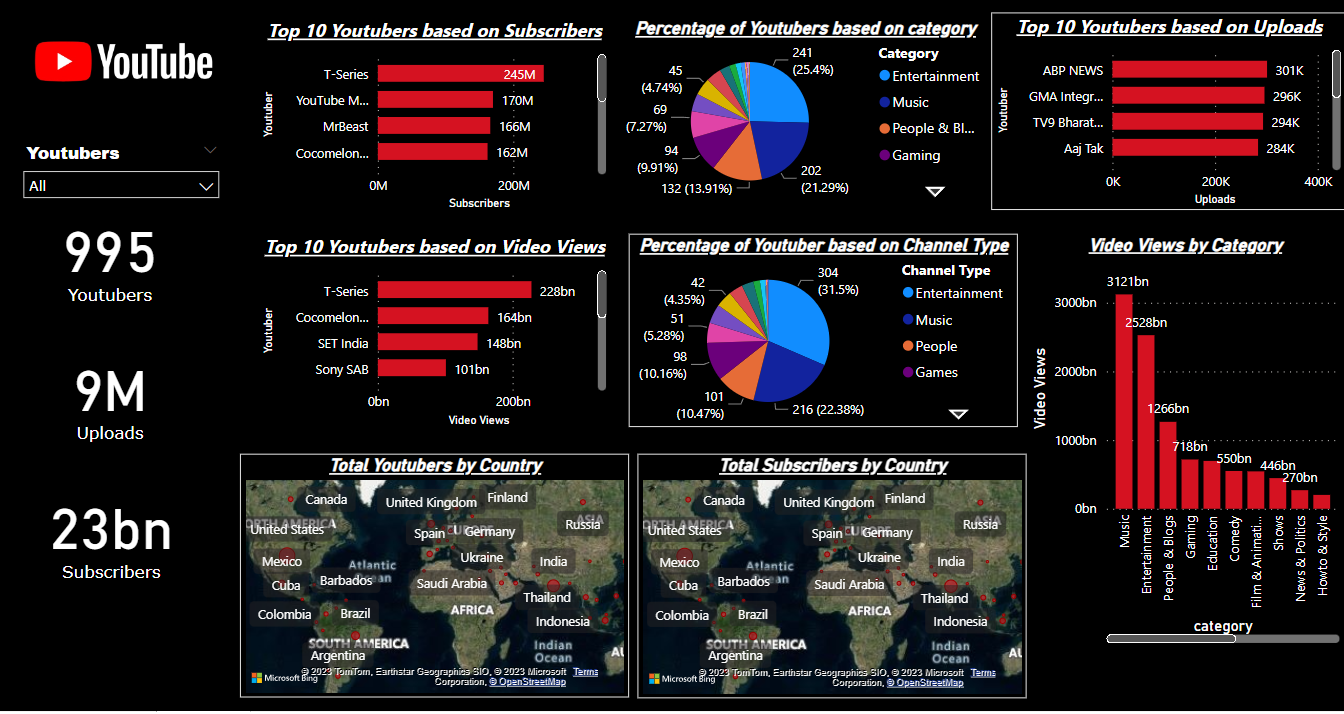

The page's visual inventory and layout, read from the dashboard file:
{"tool":"powerbi","page":{"name":"Page 1","canvas":[1280,720],"ordinal":0},"visuals":[{"type":"image","box":[0,32.9,231.7,138.5],"z":0},{"type":"card","fields":{"Values":["Global YouTube Statistics.Youtuber"]},"box":[1.4,229,207,113.8],"z":1000},{"type":"slicer","fields":{"Values":["Global YouTube Statistics.Youtuber"]},"box":[12.3,171.4,207,75.4],"z":2000},{"type":"card","fields":{"Values":["Global YouTube Statistics.uploads"]},"box":[1.4,360.6,207,113.8],"z":3000},{"type":"barChart","title":"Top 10 Youtubers based on Subscribers","fields":{"Category":["Global YouTube Statistics.Youtuber"],"Y":["Global YouTube Statistics.subscribers"]},"box":[245.4,59,337.3,187.8],"z":4000},{"type":"barChart","title":"Top 10 Youtubers based on Video Views","fields":{"Category":["Global YouTube Statistics.Youtuber"],"Y":["Global YouTube Statistics.video views"]},"box":[245.4,266,337.3,187.8],"z":5000},{"type":"pieChart","title":"Percentage of Youtubers based on category","fields":{"Category":["Global YouTube Statistics.category"],"Y":["Global YouTube Statistics.Youtuber"]},"box":[586.8,59,360.6,178.2],"z":6000},{"type":"pieChart","title":"Percentage of Youtuber based on Channel Type","fields":{"Category":["Global YouTube Statistics.channel_type"],"Y":["Global YouTube Statistics.Youtuber"]},"box":[599.1,266,370.2,183.7],"z":7000},{"type":"map","title":"Total Youtubers by Country","fields":{"Category":["Global YouTube Statistics.Country"],"Size":["Global YouTube Statistics.Youtuber"]},"box":[228.5,474.8,370.1,232.1],"z":8000},{"type":"barChart","title":"Top 10 Youtubers based on Uploads","fields":{"Category":["Global YouTube Statistics.Youtuber"],"Y":["Global YouTube Statistics.uploads"]},"box":[943.3,54.8,337.3,187.8],"z":9000},{"type":"columnChart","title":"Video Views by Category","fields":{"Category":["Global YouTube Statistics.category"],"Y":["Global YouTube Statistics.video views"]},"box":[977.6,266,303,394.9],"z":10000},{"type":"map","title":"Total Subscribers by Country","fields":{"Category":["Global YouTube Statistics.Country"],"Size":["Global YouTube Statistics.subscribers"]},"box":[607.4,474.4,370.2,233.1],"z":11000},{"type":"card","fields":{"Values":["Global YouTube Statistics.subscribers"]},"box":[2.7,492.2,207,113.8],"z":12000}]}

Visuals, with their boxes on the page's 1280x720 design canvas (x1, y1, x2, y2). These are canvas units, not pixel positions in the 1344x714 screenshot, which may show the page scaled, cropped or inside an application window:
image: [0,33,232,171]
card - Global YouTube Statistics.Youtuber: [1,229,208,343]
slicer - Global YouTube Statistics.Youtuber: [12,171,219,247]
card - Global YouTube Statistics.uploads: [1,361,208,474]
"Top 10 Youtubers based on Subscribers" barChart: [245,59,583,247]
"Top 10 Youtubers based on Video Views" barChart: [245,266,583,454]
"Percentage of Youtubers based on category" pieChart: [587,59,947,237]
"Percentage of Youtuber based on Channel Type" pieChart: [599,266,969,450]
"Total Youtubers by Country" map: [228,475,599,707]
"Top 10 Youtubers based on Uploads" barChart: [943,55,1281,243]
"Video Views by Category" columnChart: [978,266,1281,661]
"Total Subscribers by Country" map: [607,474,978,708]
card - Global YouTube Statistics.subscribers: [3,492,210,606]
